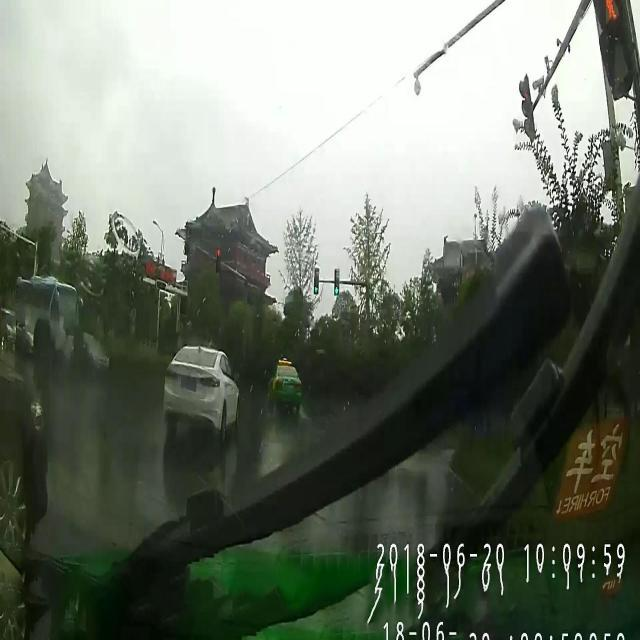car: (0, 369, 47, 554), (162, 344, 240, 446), (267, 357, 303, 410)
